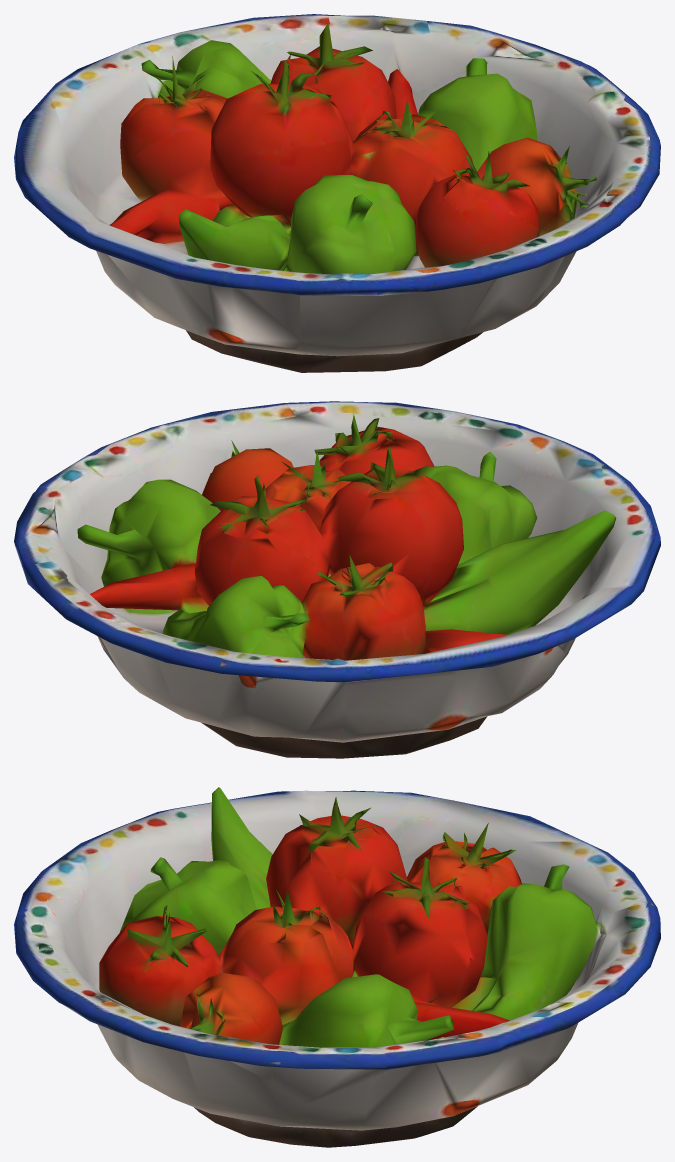
The model's file is bassine-tomates.glb.
The picture shows the model from 3 angles, top to bottom: view 1: azimuth 30°, elevation 25°; view 2: azimuth 150°, elevation 25°; view 3: azimuth 270°, elevation 25°; orthographic projection.
Visible parts, largest first — view 1: tripo_node_4b4fd1c8-fbae-4bb3-9666-e5b6a1722884; view 2: tripo_node_4b4fd1c8-fbae-4bb3-9666-e5b6a1722884; view 3: tripo_node_4b4fd1c8-fbae-4bb3-9666-e5b6a1722884.
Boxes of the visible parts, x1,y1,x2,y2 form: tripo_node_4b4fd1c8-fbae-4bb3-9666-e5b6a1722884: [14, 14, 660, 372]; tripo_node_4b4fd1c8-fbae-4bb3-9666-e5b6a1722884: [14, 401, 660, 758]; tripo_node_4b4fd1c8-fbae-4bb3-9666-e5b6a1722884: [14, 787, 660, 1147].
Size of the model in its own units: 0.9955 by 0.4453 by 0.9951.
Materials: 1 (1 with a texture image).
